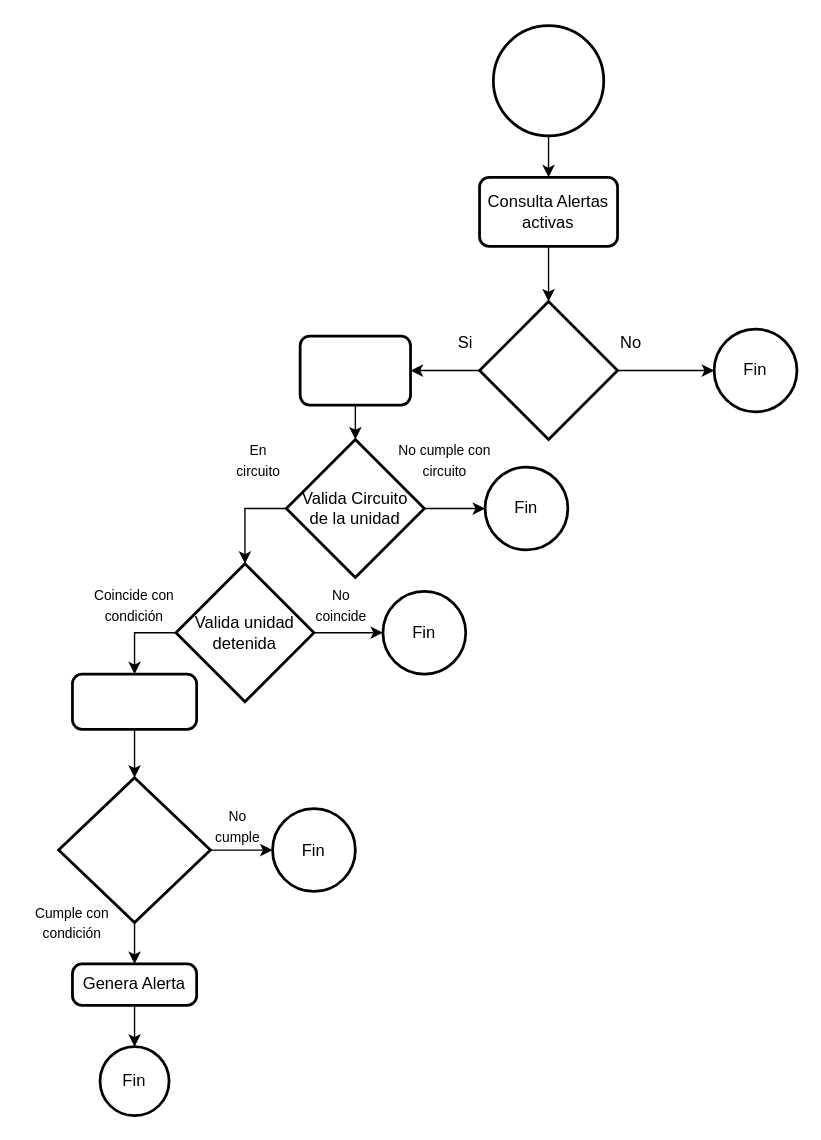
Some shapes in this 821 by 1140 pixel diagram are drawn without their labels. The shapes that lost their labels are listed below. From the top down, each one's box as (x1, y1, x2, y2) in pixels, then its label:
(491, 23, 604, 137): Inicio
(298, 334, 411, 406): Consulta unidades
(477, 299, 618, 440): ¿Hay alertas activas?
(70, 672, 197, 730): Consulta Zona de la unidad
(57, 776, 211, 923): Valida zona en la que se encuentra
